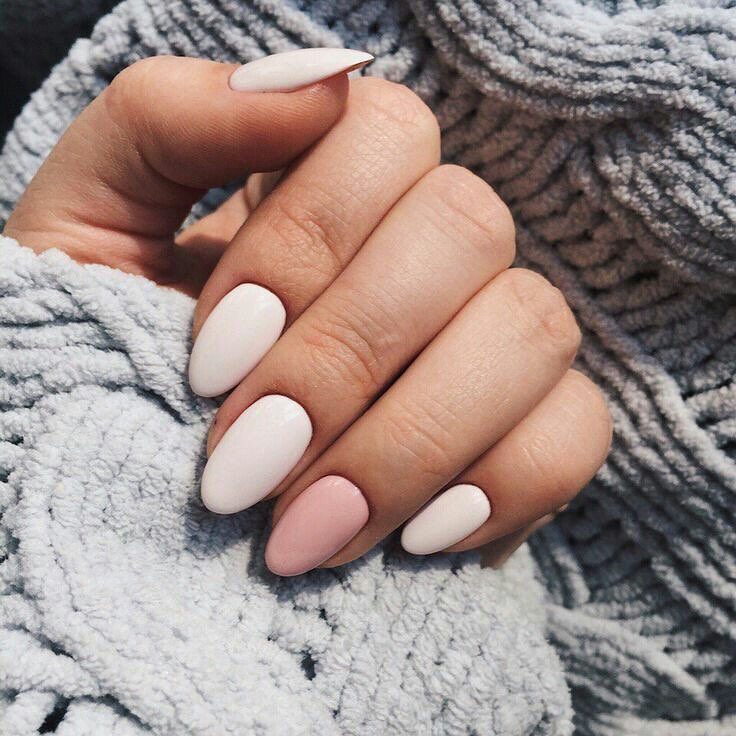hand: (29, 110, 581, 701)
